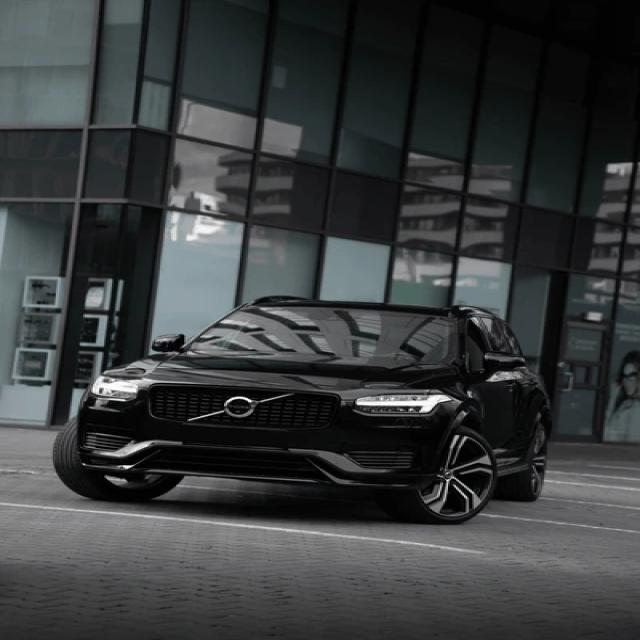volvo: (222, 396, 262, 418)
